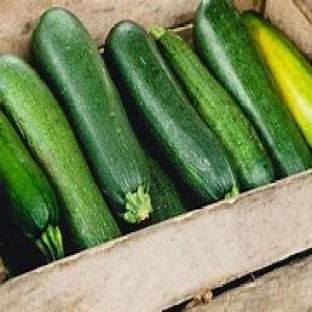Zucchini: (32, 9, 152, 223), (106, 21, 238, 202), (0, 56, 119, 249), (150, 27, 274, 188), (0, 111, 64, 261), (244, 13, 311, 147), (146, 150, 186, 223)
